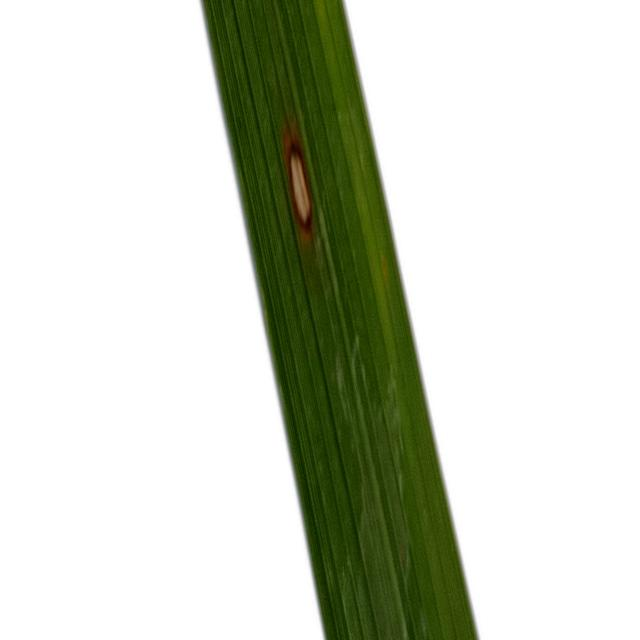LEAF BLAST: (281, 125, 314, 246)
